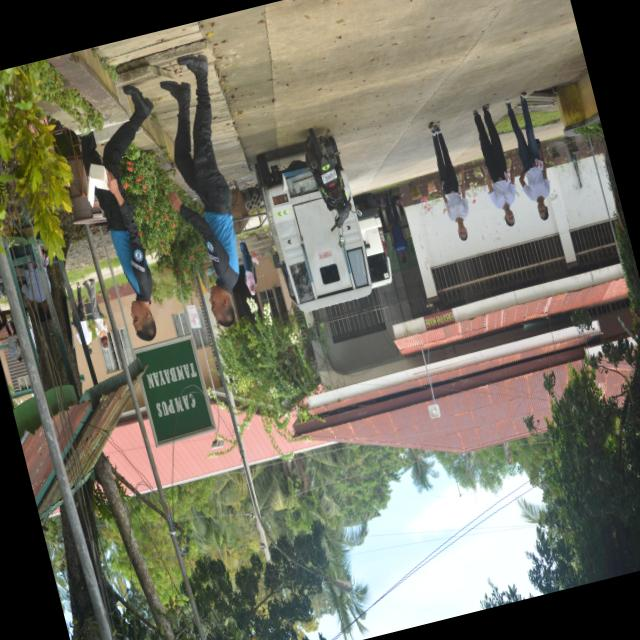person: (159, 54, 238, 326), (80, 85, 155, 340), (504, 91, 549, 219), (472, 104, 514, 226), (428, 121, 467, 239), (82, 278, 107, 348), (384, 189, 407, 262), (73, 282, 91, 353), (239, 239, 256, 294), (5, 319, 21, 361)
